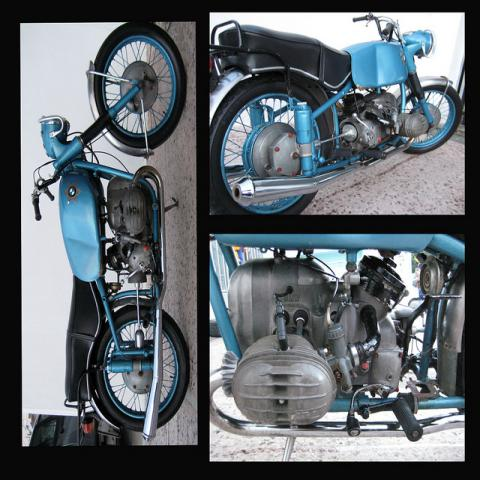motorcycle: (33, 23, 188, 446), (203, 231, 468, 441), (209, 12, 462, 214)
